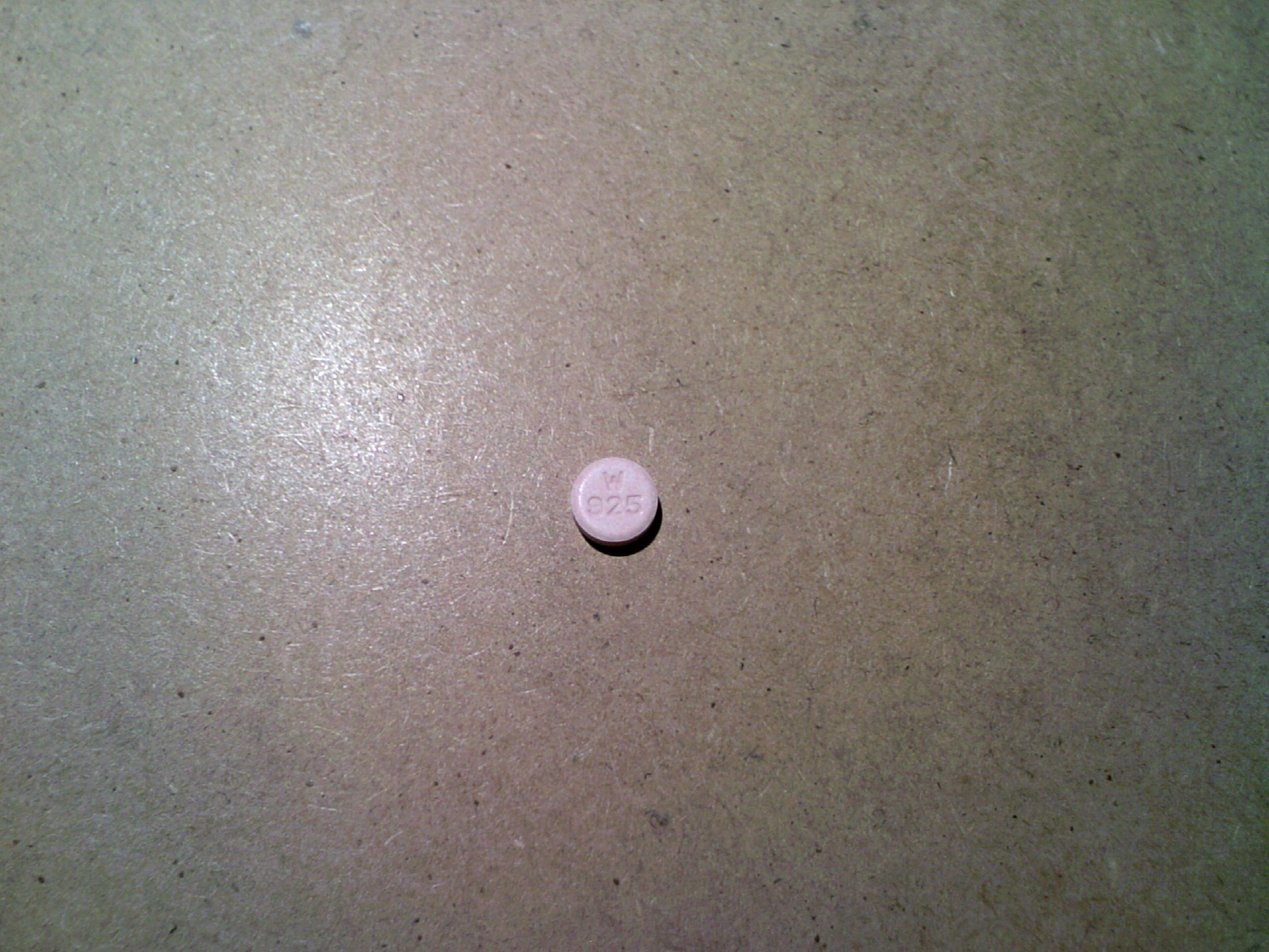Pill: (565, 451, 664, 548)
